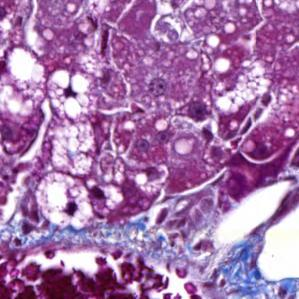ballooning: (33, 170, 95, 233), (43, 69, 98, 125)
